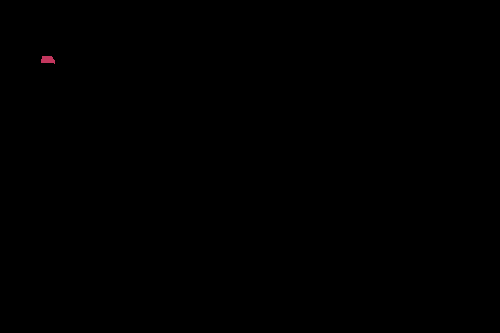Airplane: (41, 56, 54, 64)
